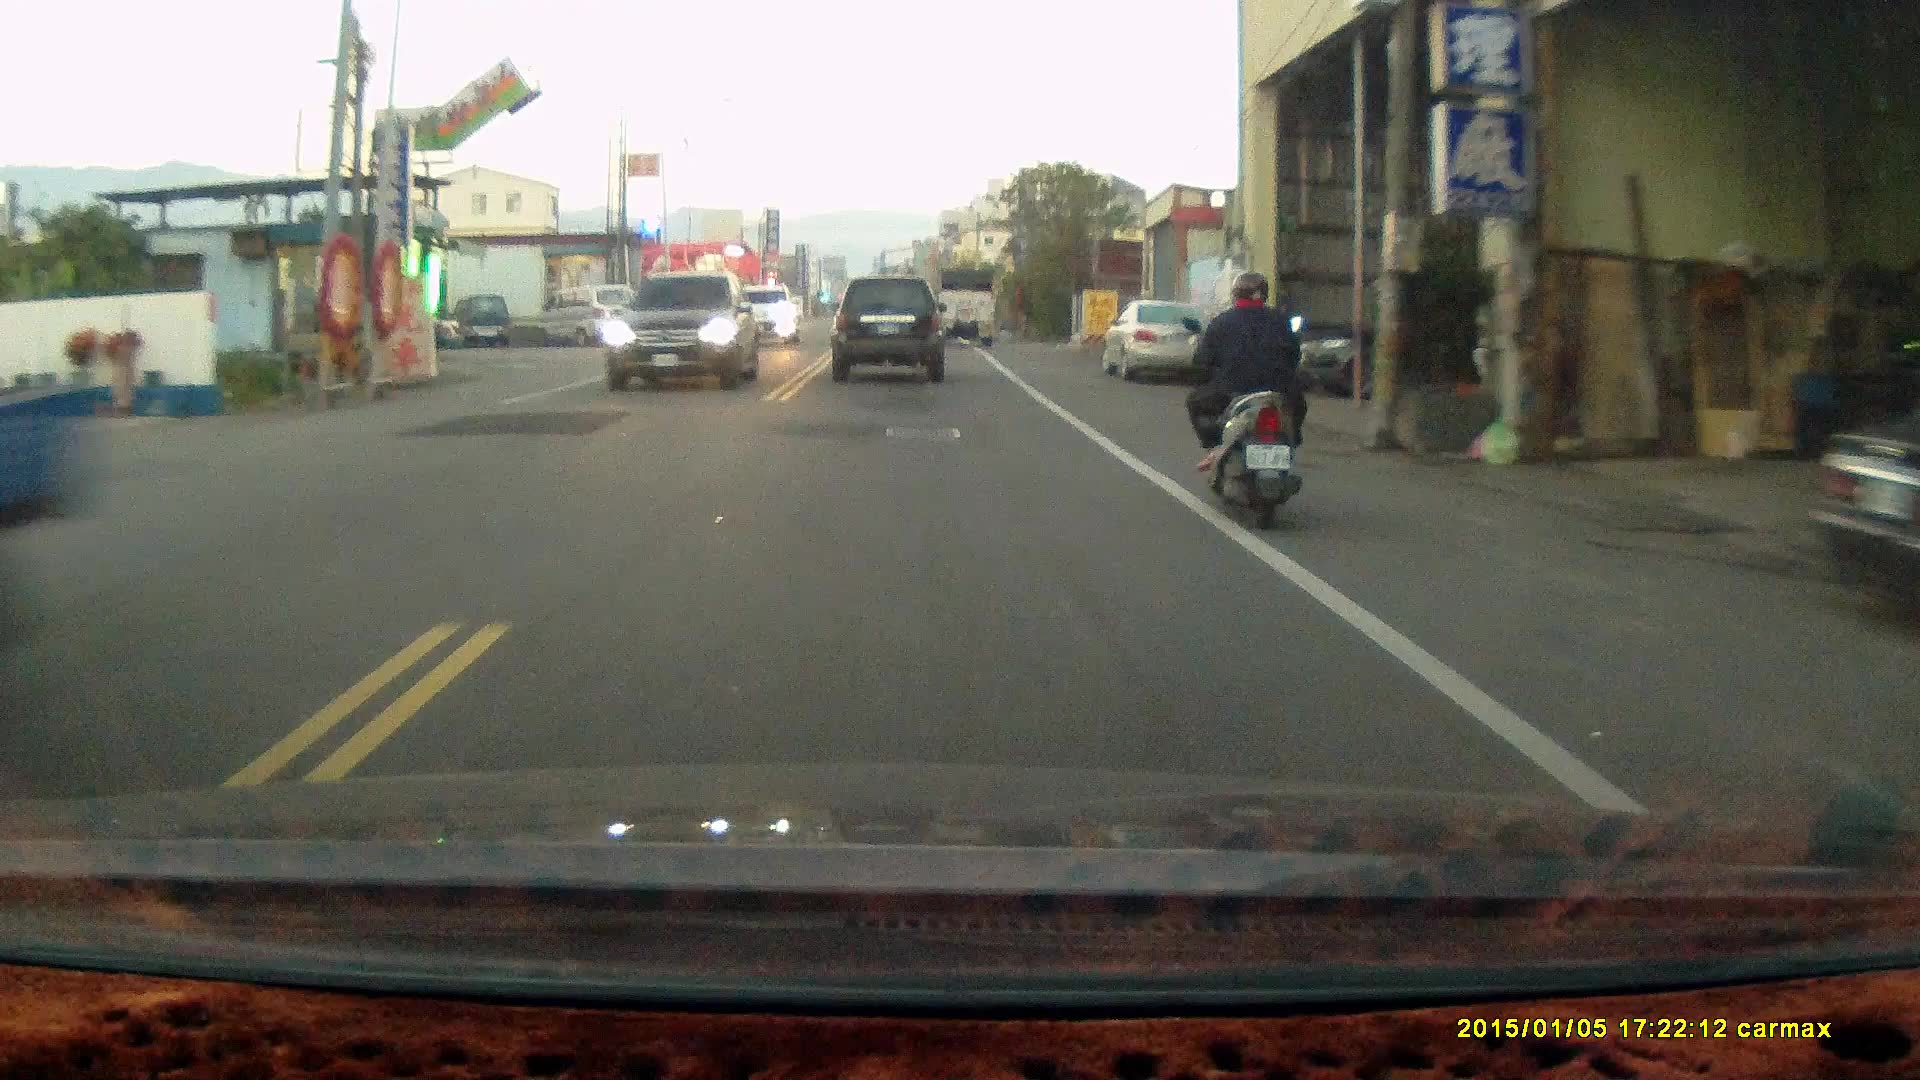rider: (1179, 268, 1310, 533)
vehicle: (602, 276, 765, 399), (830, 276, 948, 383), (1103, 298, 1211, 381), (546, 283, 638, 349), (928, 267, 999, 347)
